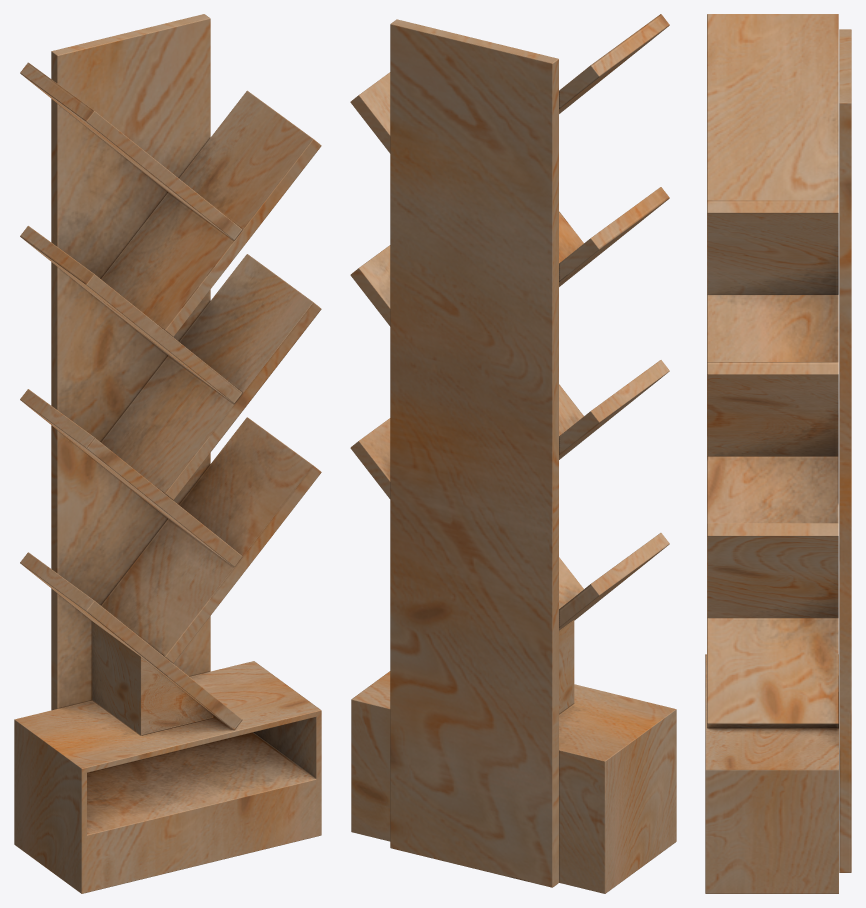
File: book_shelf.glb
The picture shows the model from 3 angles, left to right: view 1: azimuth 30°, elevation 25°; view 2: azimuth 150°, elevation 25°; view 3: azimuth 270°, elevation 25°; orthographic projection. The views are drawn at different scales.
Visible parts, largest first — view 1: Object_2; view 2: Object_2; view 3: Object_2.
Part boxes in pixels (x1=…): Object_2: x1=14, y1=14, x2=321, y2=893; Object_2: x1=350, y1=14, x2=676, y2=893; Object_2: x1=705, y1=14, x2=851, y2=893.
Size of the model in its own units: 40.16 by 124 by 21.33.
1 material, 1 textured.
